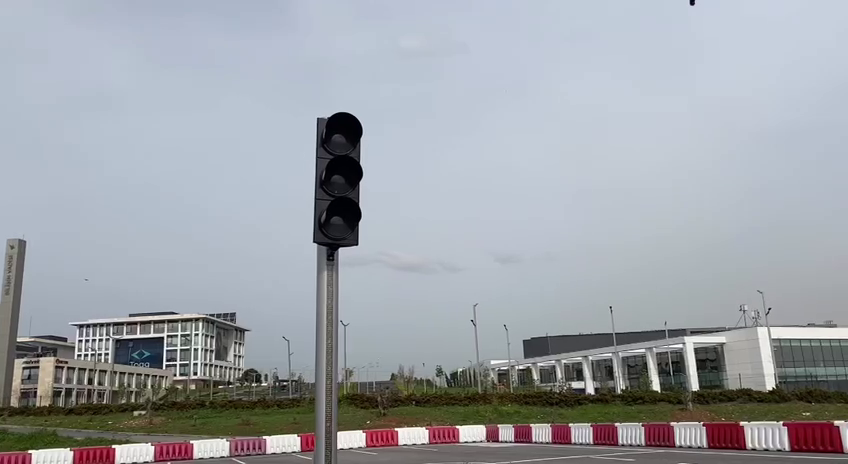trafficLight: (306, 108, 366, 250)
